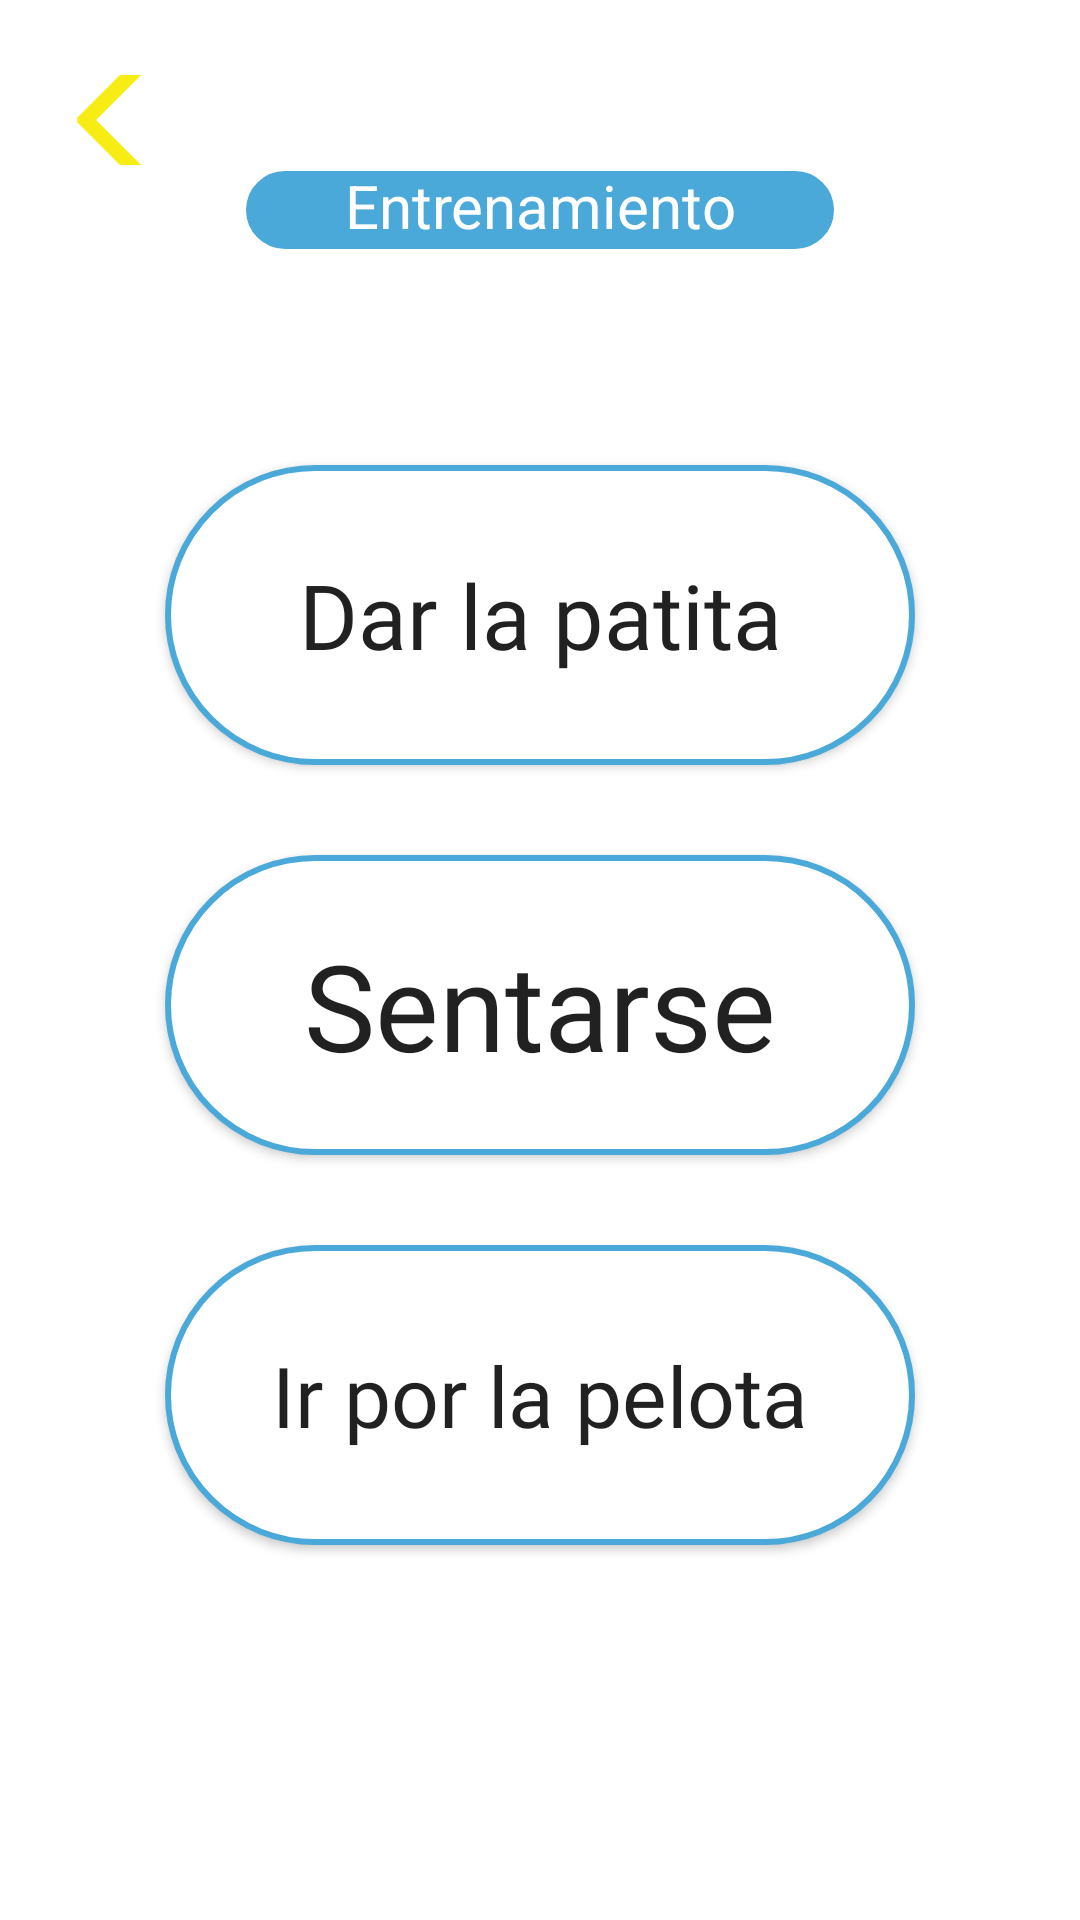

Screen size 1080w x 1920h. Icon name, then its center in pixels as (x=x, y=y):
flecha: (x=108, y=120)
